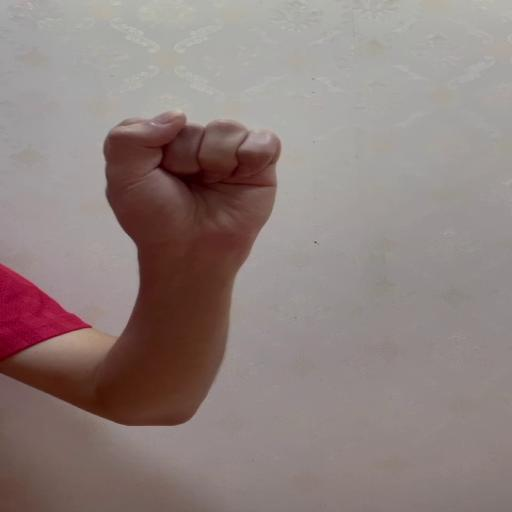fist: (103, 106, 283, 248)
